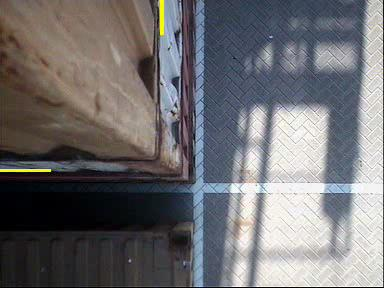groundmarker_2: (176, 221, 245, 272), (205, 47, 248, 101)
